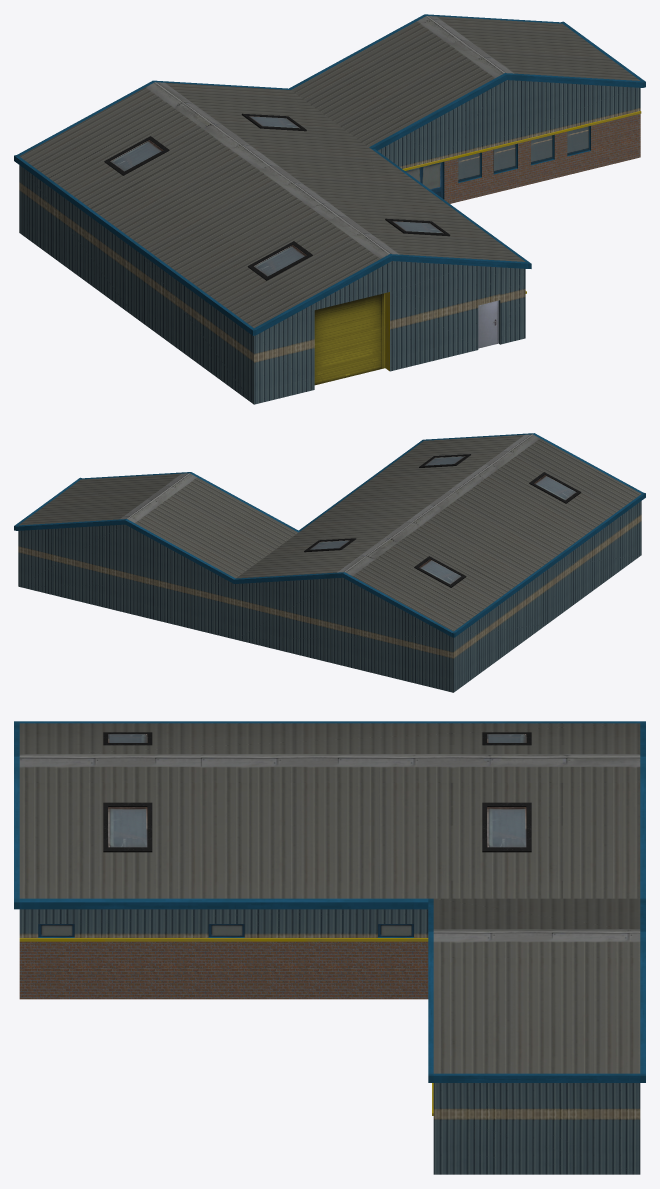
The model's file is industrialunitg1.FBX.
The picture shows the model from 3 angles, top to bottom: view 1: azimuth 30°, elevation 25°; view 2: azimuth 150°, elevation 25°; view 3: azimuth 270°, elevation 25°; orthographic projection. The views are drawn at different scales.
Visible parts, largest first — view 1: Box001; view 2: Box001; view 3: Box001.
Boxes of the visible parts, <box> form: Box001: <box>14,14,645,404</box>; Box001: <box>14,433,645,692</box>; Box001: <box>14,721,645,1174</box>.
Size of the model in its own units: 3235 by 661 by 2438.
Materials: 1 (1 with a texture image).
